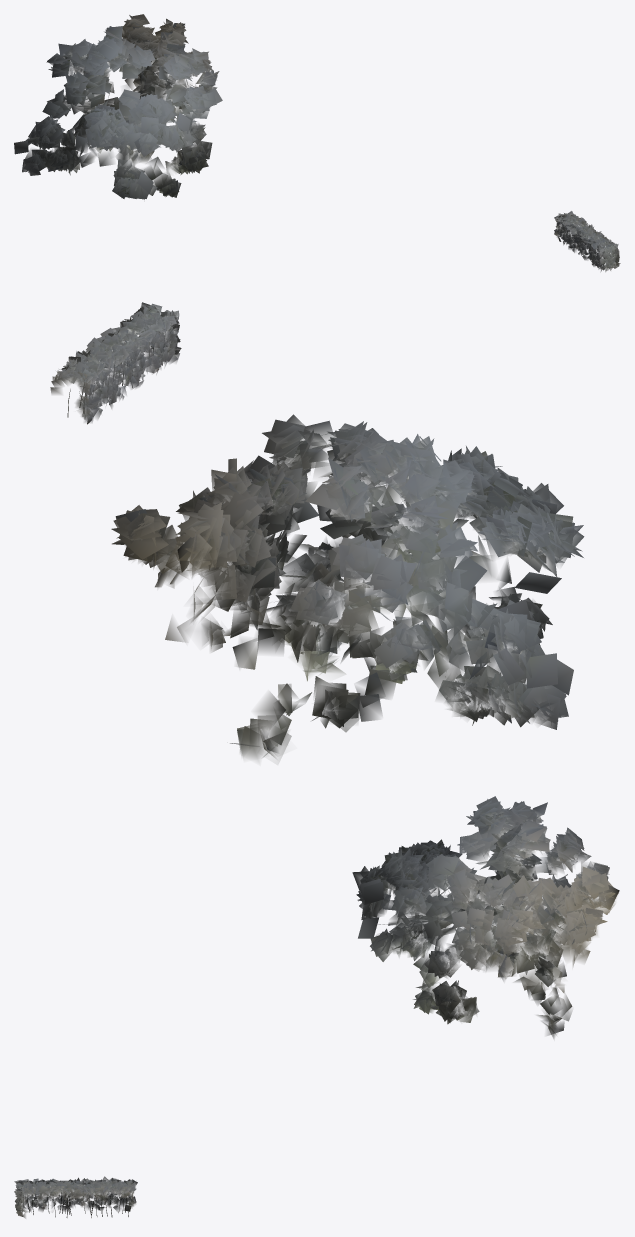
The model's file is leaf_m2_0.glb.
3 renders of one model, top to bottom at view 1: azimuth 30°, elevation 25°; view 2: azimuth 150°, elevation 25°; view 3: azimuth 270°, elevation 25°, orthographic. The views are drawn at different scales.
Parts seen in each view (by area): view 1: leaf_m2_0; view 2: leaf_m2_0; view 3: leaf_m2_0.
Part boxes in pixels (x1=…): leaf_m2_0: x1=14, y1=14, x2=620, y2=271; leaf_m2_0: x1=50, y1=302, x2=584, y2=761; leaf_m2_0: x1=14, y1=796, x2=619, y2=1218.
Size of the model in its own units: 23.27 by 9.48 by 23.4.
